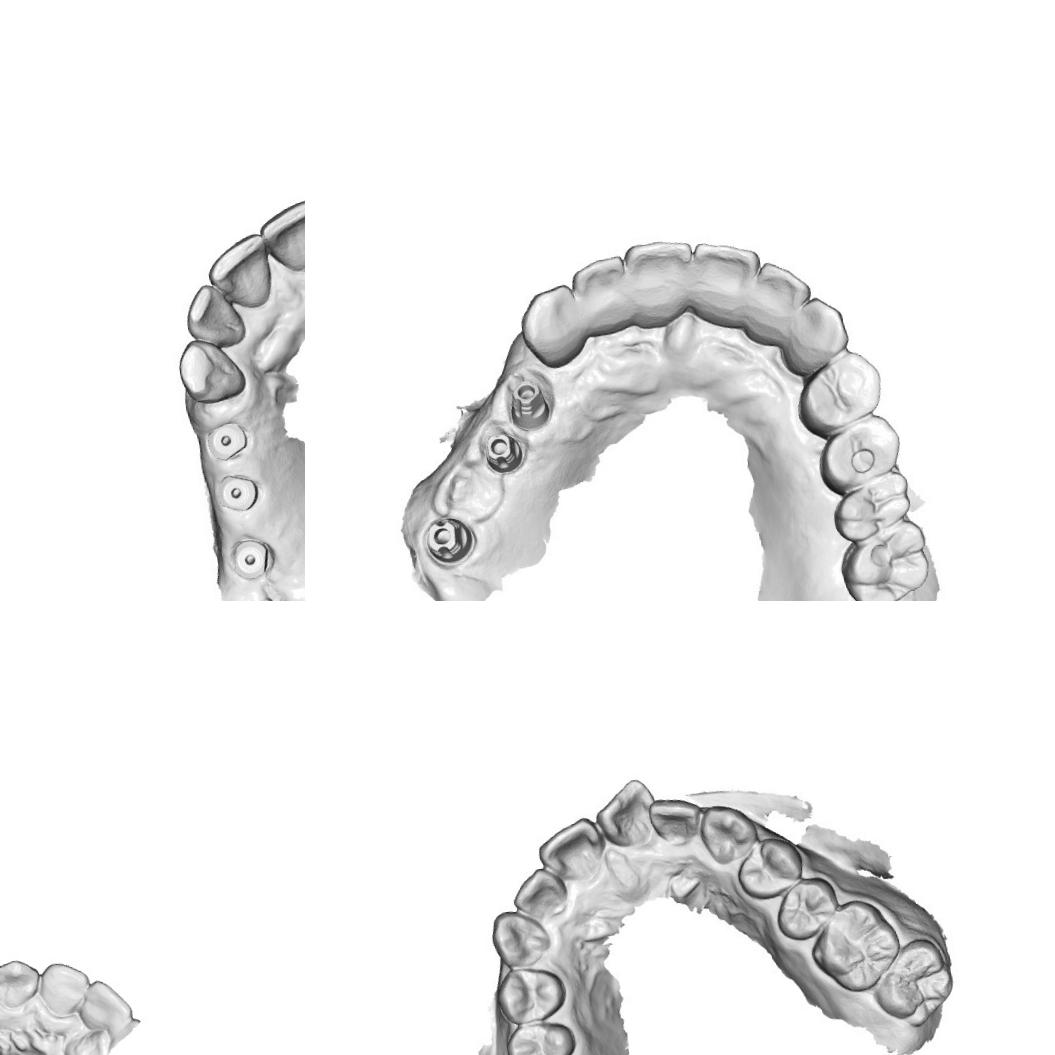canine: (512, 281, 589, 374), (777, 290, 855, 365), (175, 333, 246, 408), (486, 900, 557, 972), (695, 800, 757, 866), (0, 954, 43, 1011)
implant: (414, 506, 480, 569), (223, 528, 286, 586), (507, 371, 555, 434), (480, 416, 526, 476), (215, 467, 268, 516), (206, 418, 253, 466)
incisor: (688, 233, 770, 330), (620, 233, 702, 325), (746, 255, 818, 338), (564, 251, 637, 329), (533, 814, 610, 886), (207, 234, 274, 312), (592, 776, 660, 851), (182, 284, 247, 348), (72, 974, 136, 1036), (644, 786, 706, 850), (36, 956, 96, 1020), (510, 866, 570, 924), (261, 198, 305, 270)
molar: (810, 897, 904, 992), (868, 933, 956, 1033), (834, 520, 936, 601), (831, 472, 917, 548)
premolar: (792, 344, 890, 440), (810, 410, 909, 492), (771, 872, 843, 944), (735, 830, 803, 902), (498, 960, 568, 1024), (503, 1016, 578, 1055)
